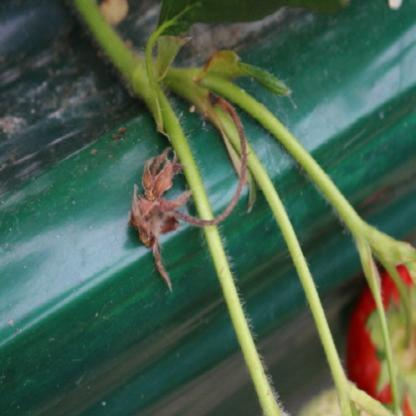Strawberry_Gray_Mold: (129, 146, 213, 294)
